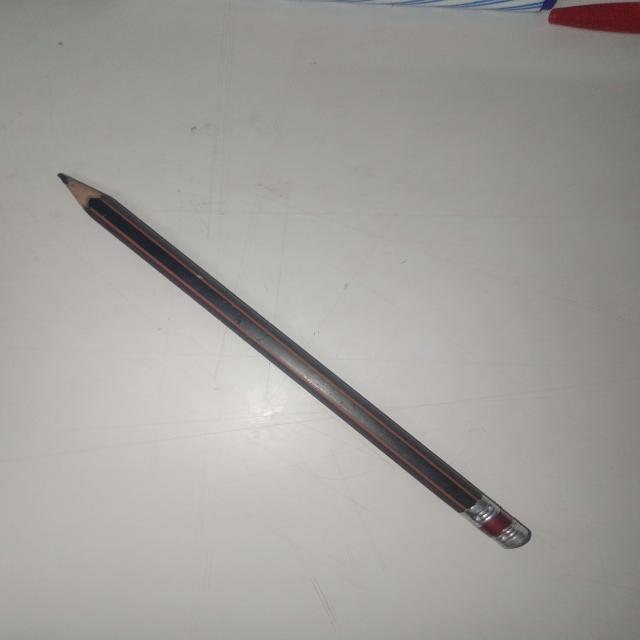pen_pencil: (46, 134, 546, 587)
